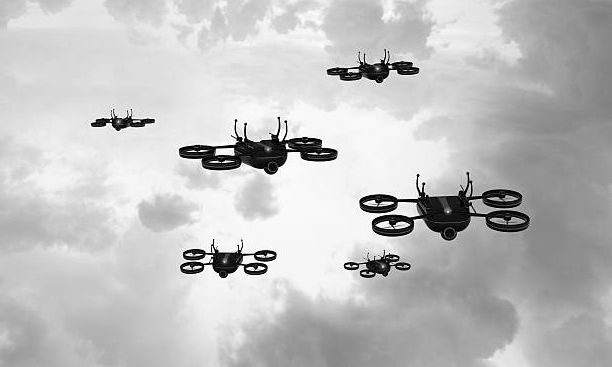Drone: (349, 170, 535, 240), (173, 116, 340, 174), (176, 233, 277, 280), (323, 45, 421, 84), (341, 249, 414, 280), (88, 105, 157, 133)
